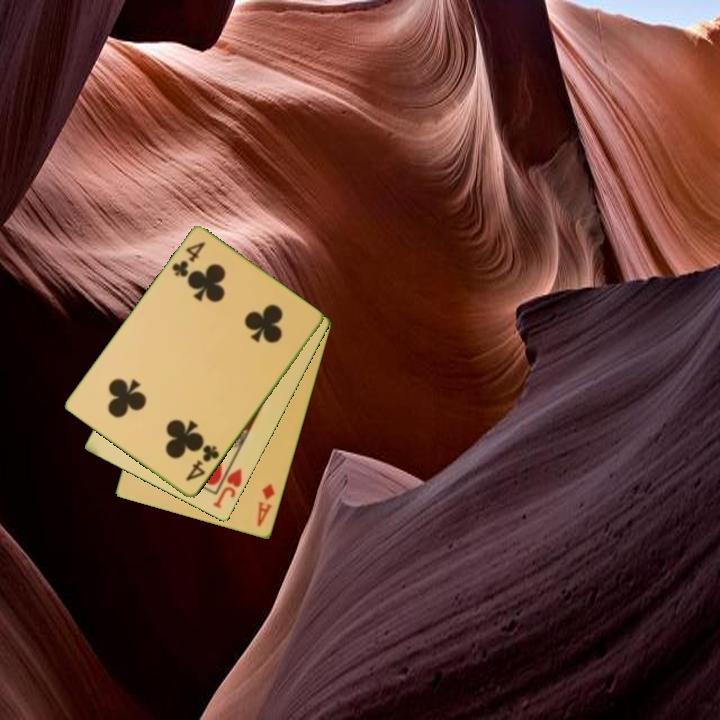4c: (168, 238, 209, 281), (182, 441, 222, 484)
Ad: (253, 480, 278, 530)
Jh: (209, 464, 245, 512)
